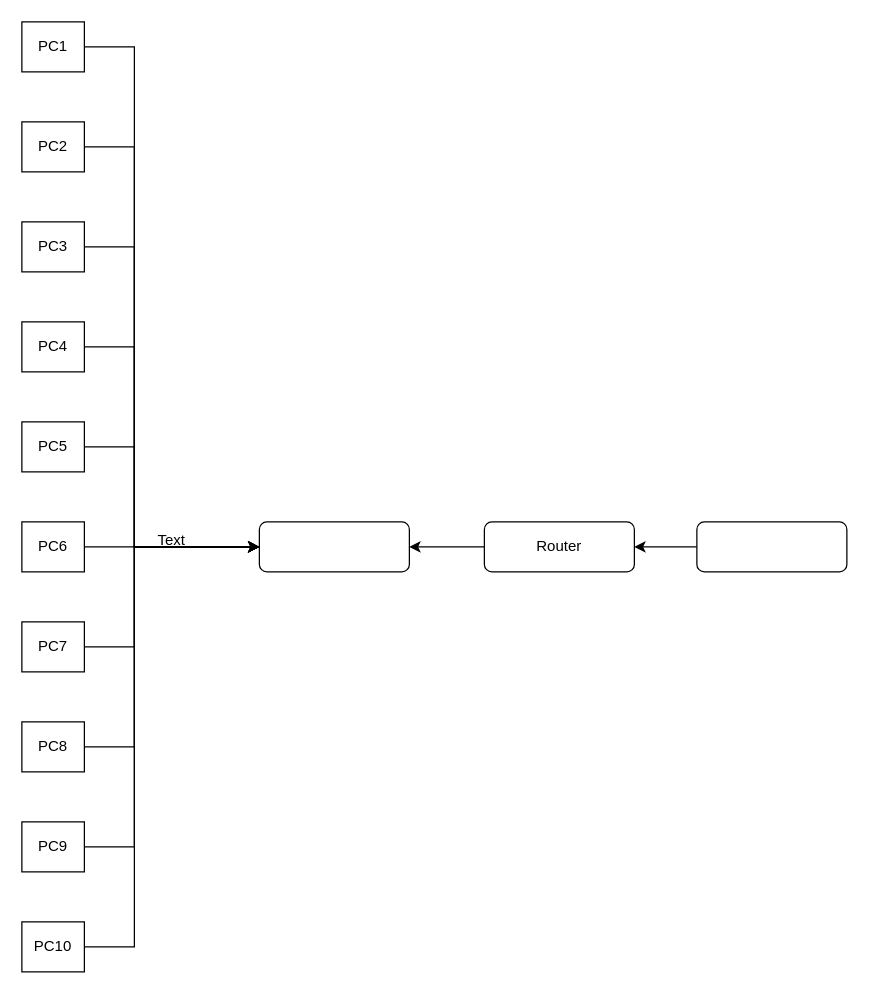
This 869x994 diagram has some shape labels left out. Here are the shapes that lost their labels. From the top down, the centre of each, then its label:
At [333,546]: "Switch 24 Port".
At [771,546]: "Internet".
